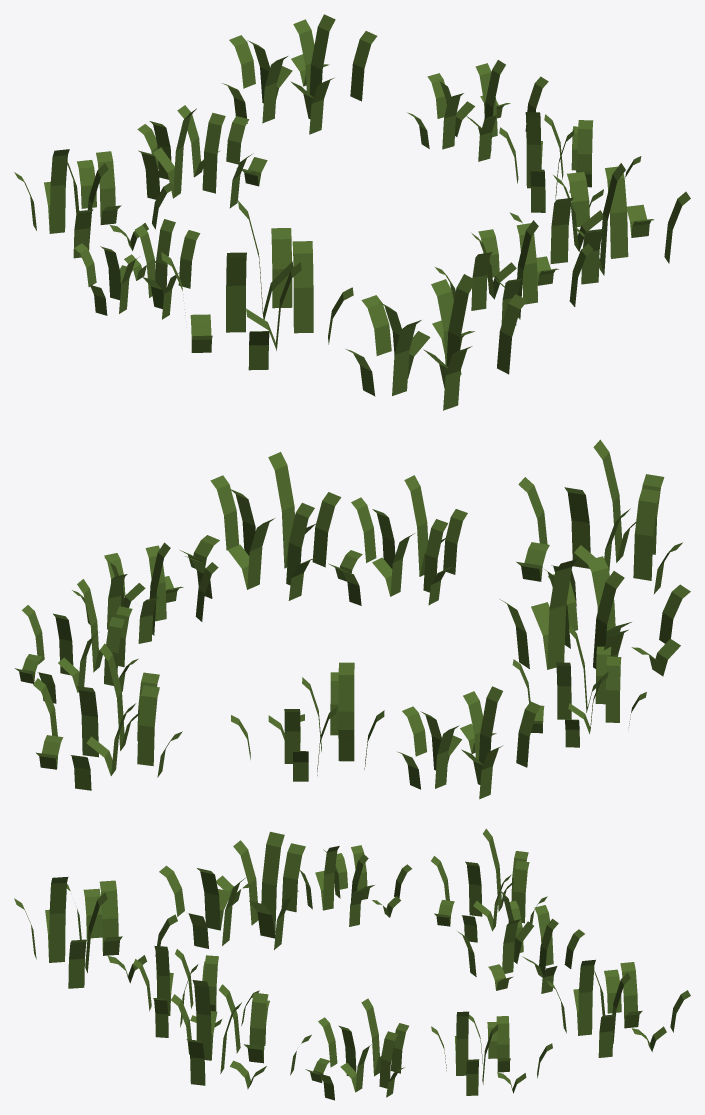
The model's file is greenhaven-grass-patch.glb.
3 views of the same model, one above another, from view 1: azimuth 30°, elevation 25°; view 2: azimuth 150°, elevation 25°; view 3: azimuth 270°, elevation 25° (orthographic). The views are drawn at different scales.
Visible parts, largest first — view 1: greenhaven-grass-patch; view 2: greenhaven-grass-patch; view 3: greenhaven-grass-patch.
Part boxes in pixels (x1,y1,x2,y2): greenhaven-grass-patch: (14,14,690,410); greenhaven-grass-patch: (14,439,690,799); greenhaven-grass-patch: (14,828,690,1100).
Size of the model in its own units: 2.53 by 0.5071 by 3.24.
